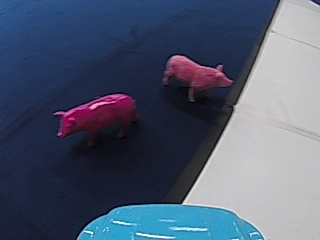pig: (50, 89, 140, 145), (160, 50, 231, 100)
